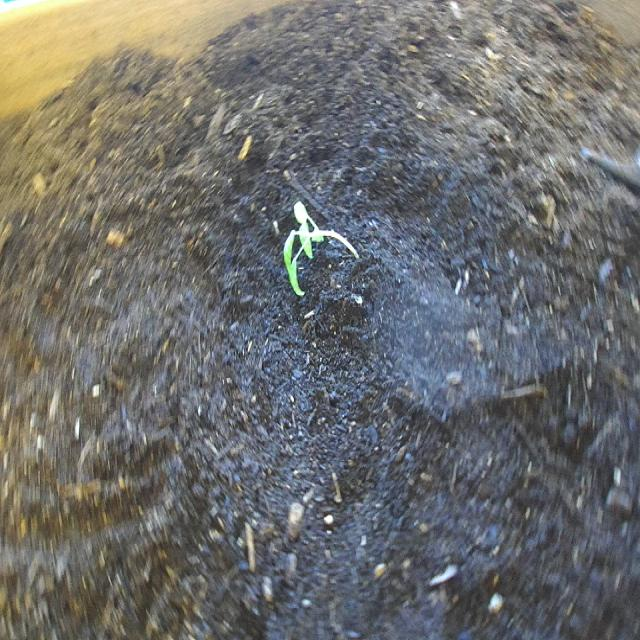Unhealthy: (276, 183, 378, 305)
